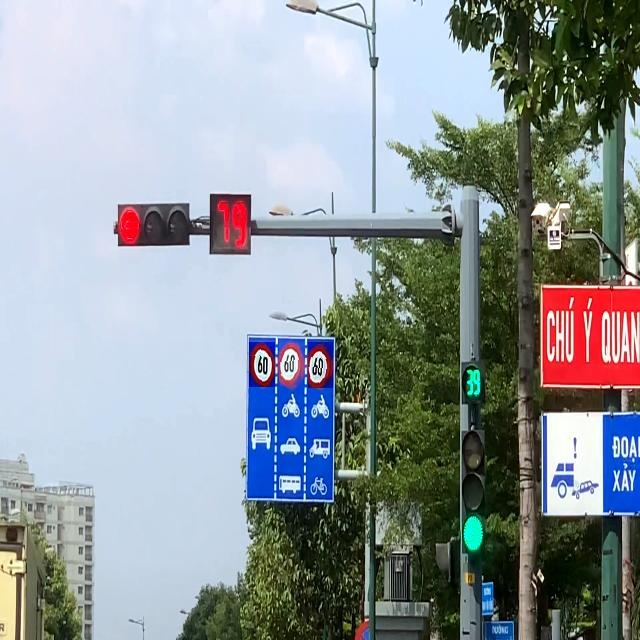bien_cam: (249, 342, 275, 387), (308, 342, 333, 388), (279, 343, 304, 387)
